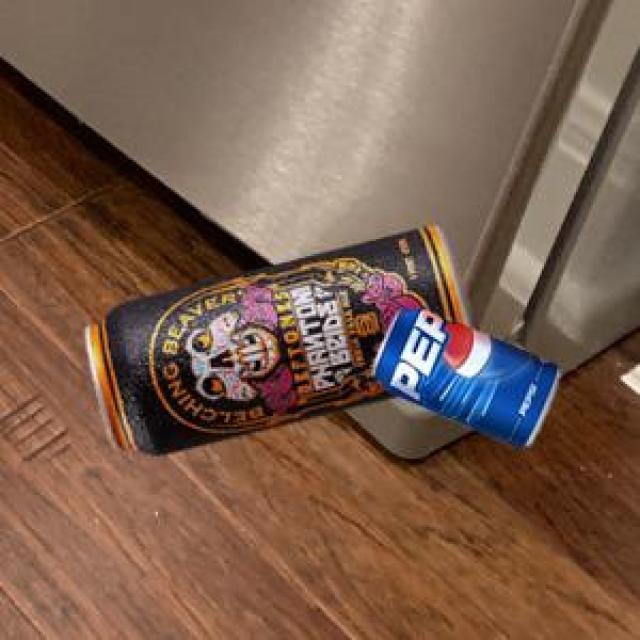logam: (82, 223, 475, 451), (370, 306, 556, 445)
